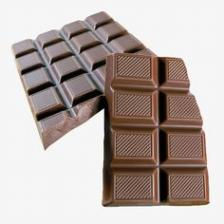brown: (12, 11, 209, 206)
